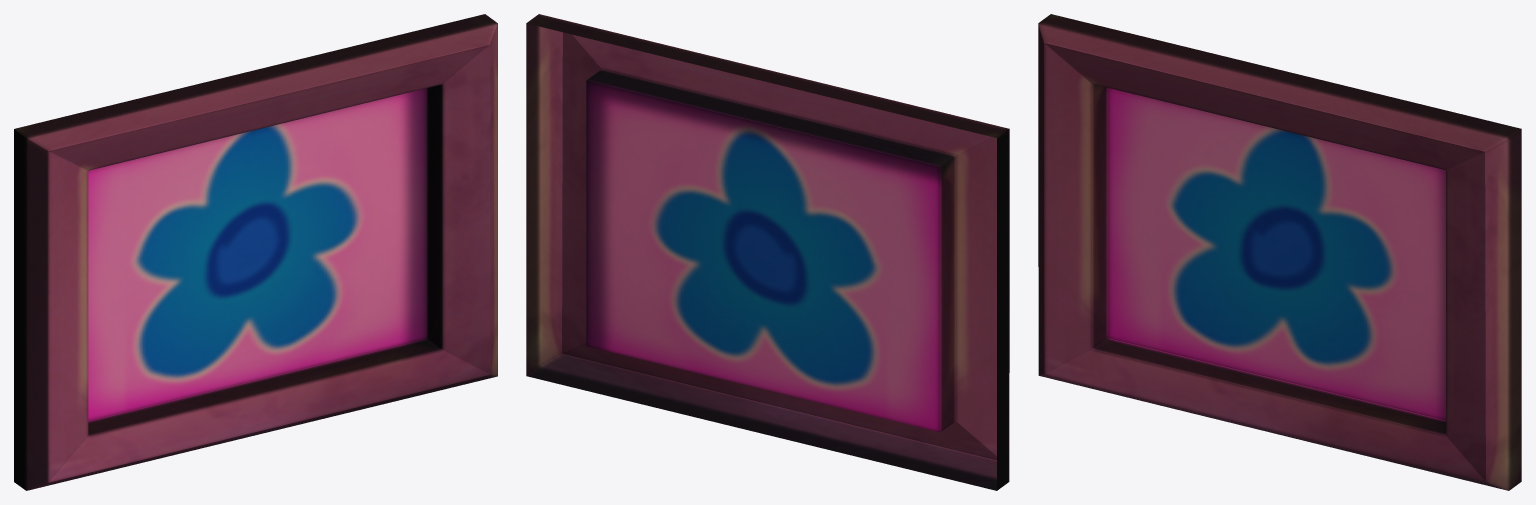
Rendered from videoframe5.dae.
The picture shows the model from 3 angles, left to right: view 1: azimuth 30°, elevation 25°; view 2: azimuth 150°, elevation 25°; view 3: azimuth 330°, elevation 25°; orthographic projection.
Parts seen in each view (by area): view 1: Frame5, Image5; view 2: Image5, Frame5; view 3: Frame5, Image5.
Boxes of the visible parts, x1,y1,x2,y2 form: Frame5: (14, 14, 497, 490); Image5: (88, 88, 427, 420); Image5: (586, 80, 940, 432); Frame5: (526, 14, 1009, 490); Frame5: (1038, 14, 1521, 490); Image5: (1107, 88, 1445, 420).
Bounding box in the file's own units: 2.84 × 2.04 × 0.2154.
Materials: 1 (1 with a texture image).
